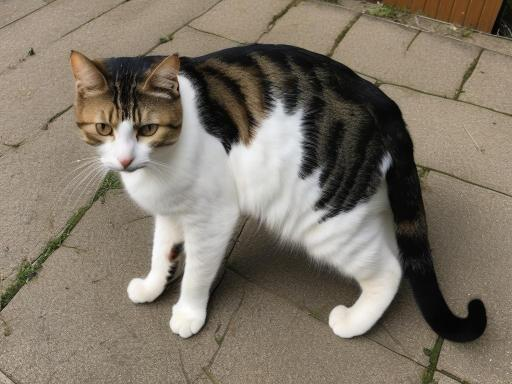cat_standing: (70, 44, 486, 342)
